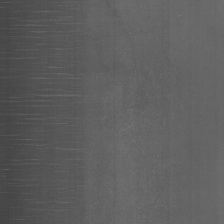waist_folding: (7, 14, 92, 193)
